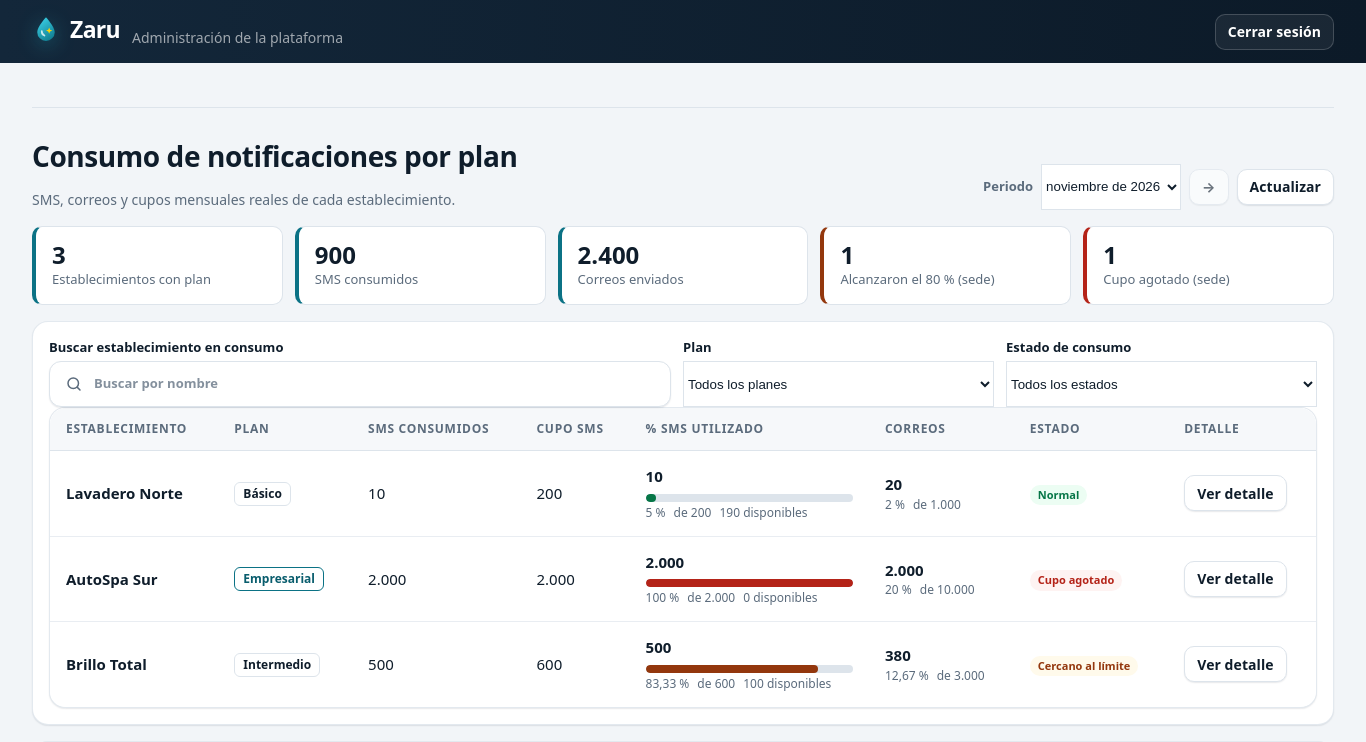
Test: HU-57 · panel de superadministración › HU-39 CA3: muestra indicadores reales, filtra por estado y abre el detalle del establecimiento
This screenshot has width=1366, height=742.
(page scrolled)
Check: the text "900" is shown, box [315, 238, 356, 270]
Check: the text "2.400" is shown, box [578, 238, 639, 270]
Step 1. Select "Cupo agotado" in the dropdown labelled "Estado de consumo" → x=1162, y=384, box [1006, 361, 1317, 407]
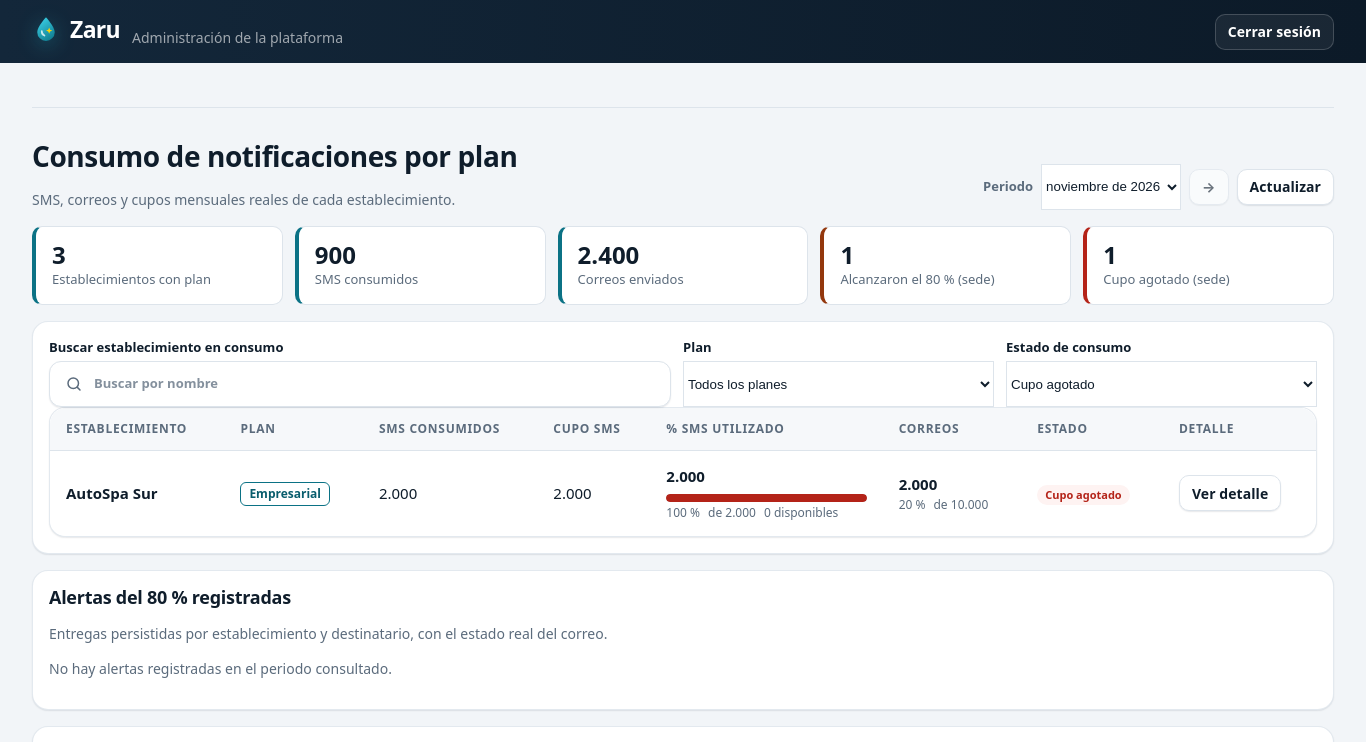
Check: the text "AutoSpa Sur" is shown, box [66, 483, 158, 503]
Step 2. Select "Todos los estados" in the dropdown labelled "Estado de consumo" → x=1162, y=384, box [1006, 361, 1317, 407]
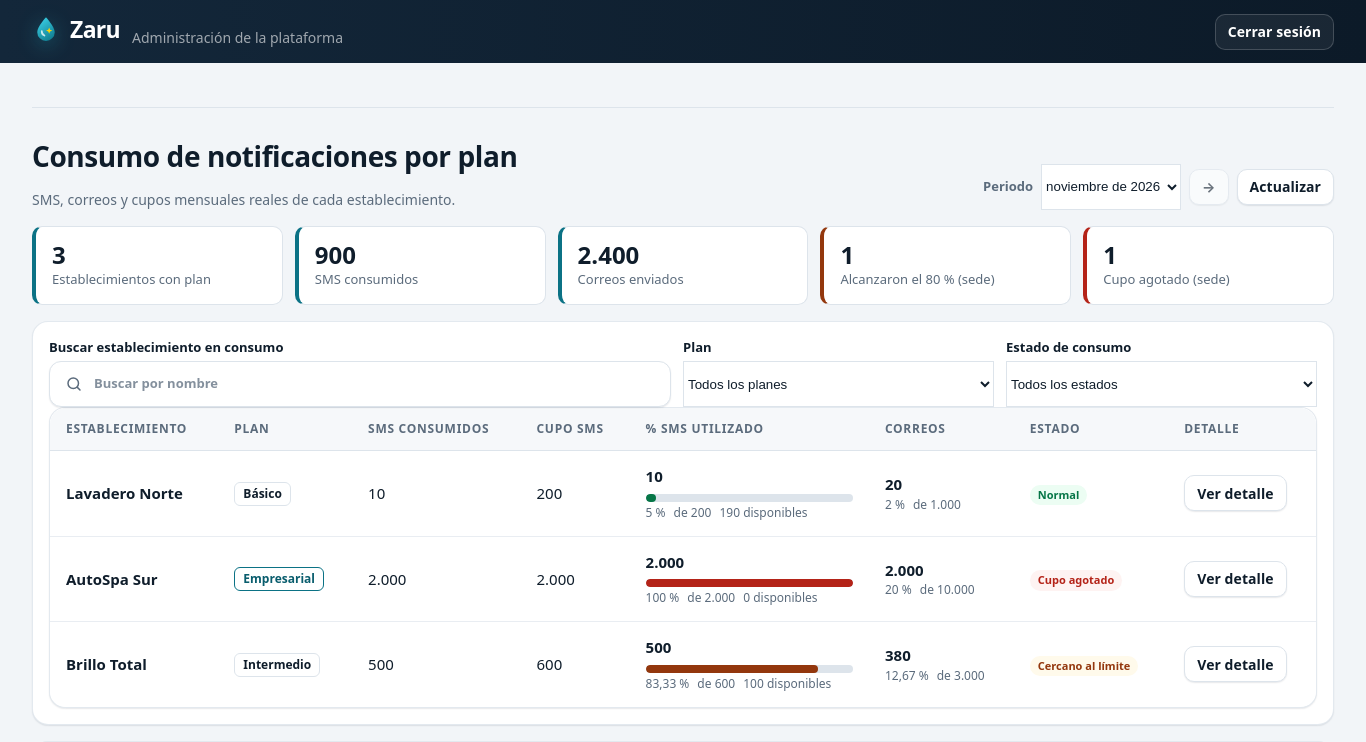
Step 3. Click the button "Ver detalle" in the row of "100 %" → x=1235, y=579, box [1184, 561, 1287, 597]
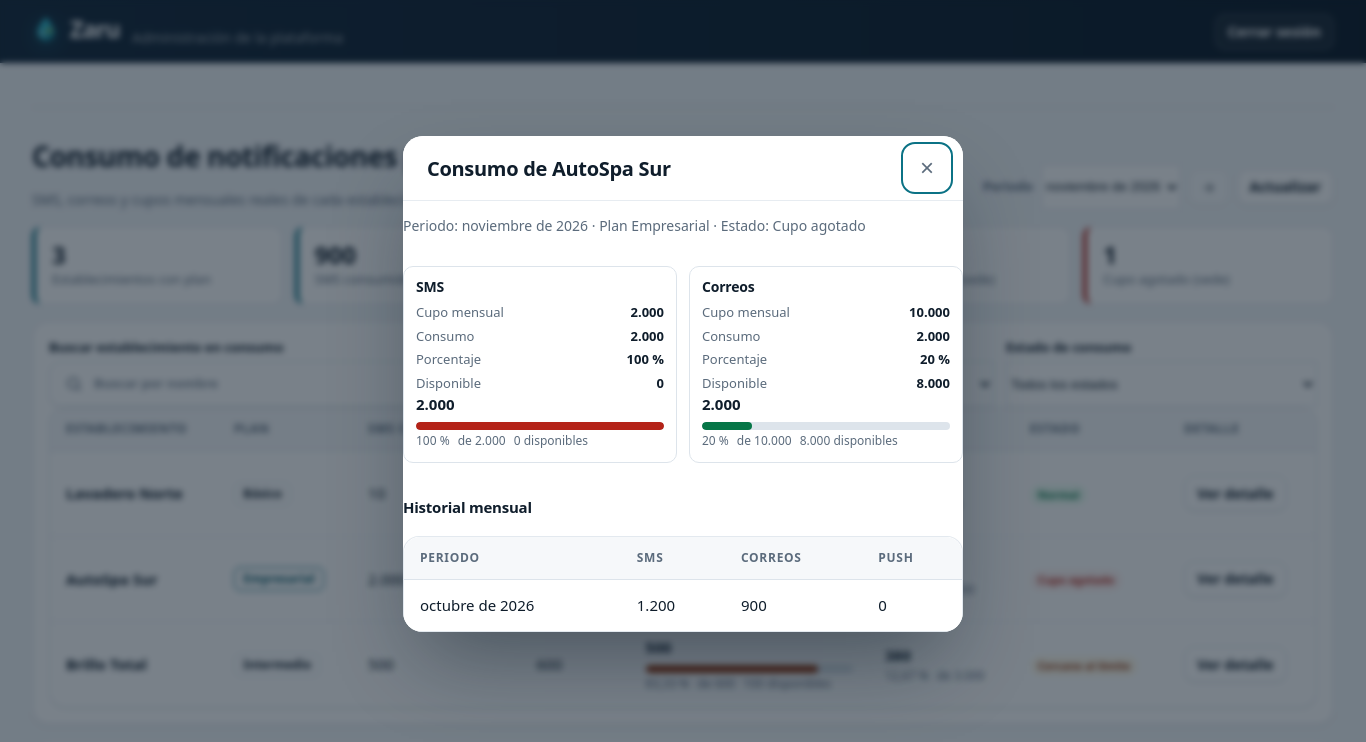
Check: the text "Plan Empresarial" is shown, box [403, 216, 866, 235]
Check: the 1st text "2.000" is shown, box [630, 304, 664, 322]
